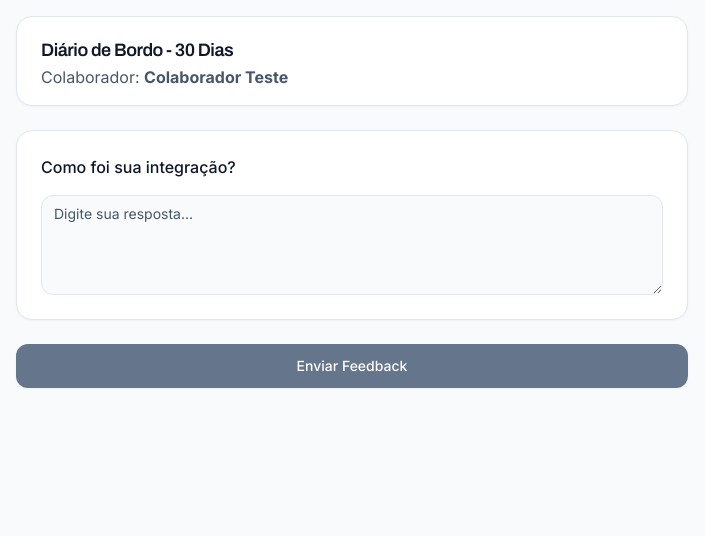
Scenario: FeedbackForm - Pós-Submit e Prevenção de Tela Branca › renderiza o cartão 'Feedback Enviado!' com CheckCircle2 após envio sem crash de tela branca
Expected: the text "Como foi sua integração?" is shown, [41,157,236,177]
// Digita resposta
Type "Integração foi excelente!" into the text box with placeholder "Digite sua resposta..." at (352, 245), box [41,195,663,295]
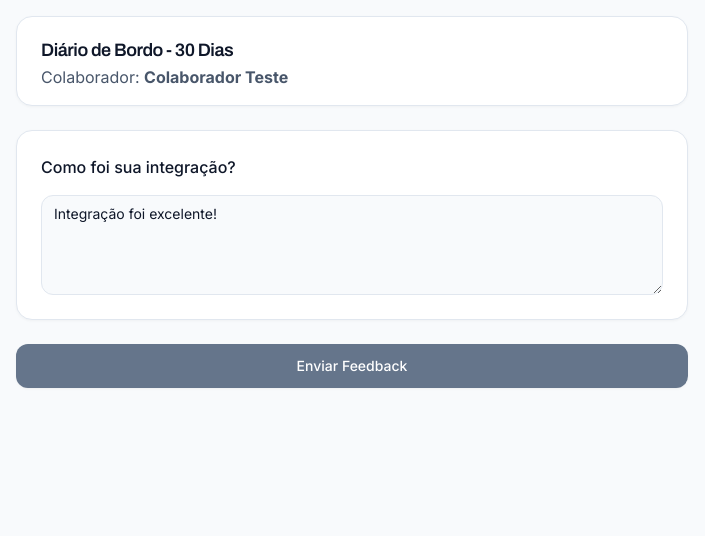
// Clica em Enviar Feedback
Click the button "Enviar Feedback" at (352, 366), box [16,344,688,388]
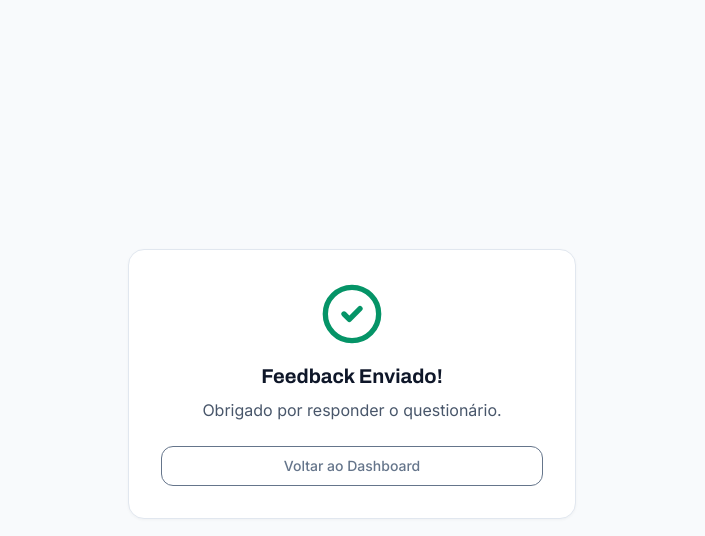
Result: the heading "Feedback Enviado!" is shown at [261,365,443,387]
Result: the text "Obrigado por responder o questionário." is shown at [202,400,502,420]
Result: the button "Voltar ao Dashboard" is shown at [161,446,543,486]
